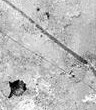Spalling: (7, 78, 27, 99)
